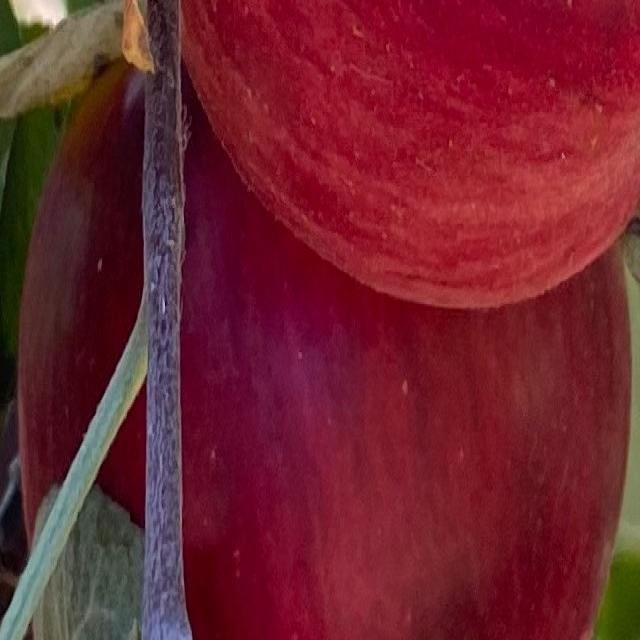100-_ripeness: (19, 58, 631, 640), (179, 0, 640, 311)
